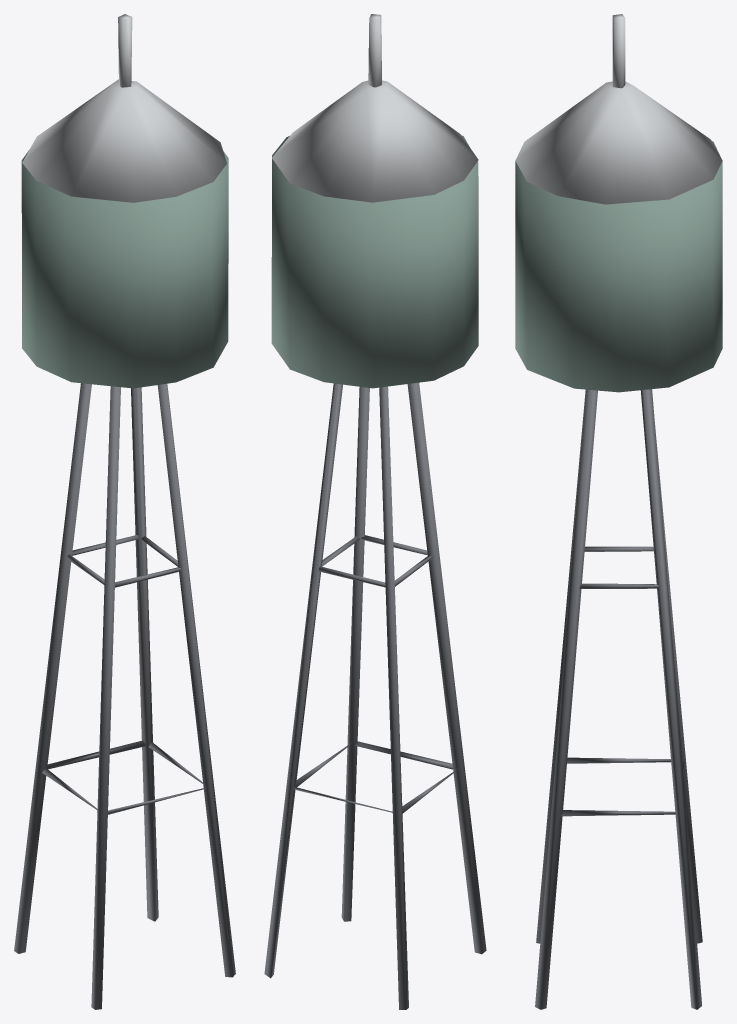
File: Arch_M13_WaterTower_LOD2.glb
3 views of the same model, side by side, from view 1: azimuth 30°, elevation 25°; view 2: azimuth 150°, elevation 25°; view 3: azimuth 270°, elevation 25° (orthographic).
Parts seen in each view (by area): view 1: Arch_M13_WaterTower_LOD2; view 2: Arch_M13_WaterTower_LOD2; view 3: Arch_M13_WaterTower_LOD2.
Part boxes in pixels (x1,y1,x2,y2): Arch_M13_WaterTower_LOD2: (14, 14, 235, 1009); Arch_M13_WaterTower_LOD2: (264, 14, 486, 1009); Arch_M13_WaterTower_LOD2: (515, 14, 722, 1009).
Size of the model in its own units: 3 by 15.31 by 3.
